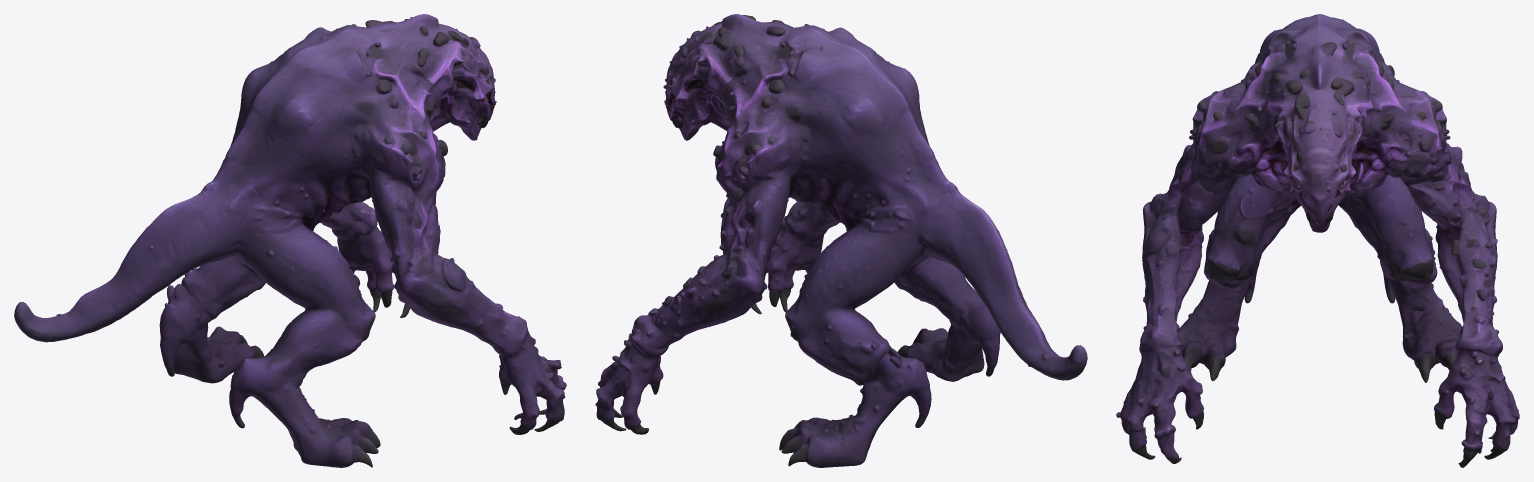
File: Tripo_H31_Original.glb
3 views of the same model, side by side, from view 1: azimuth 30°, elevation 25°; view 2: azimuth 150°, elevation 25°; view 3: azimuth 270°, elevation 25° (orthographic). The views are drawn at different scales.
Visible parts, largest first — view 1: tripo_node_351d1034-25ec-4300-a2e0-d03a0e68175a; view 2: tripo_node_351d1034-25ec-4300-a2e0-d03a0e68175a; view 3: tripo_node_351d1034-25ec-4300-a2e0-d03a0e68175a.
Part boxes in pixels (bbox=[...]): tripo_node_351d1034-25ec-4300-a2e0-d03a0e68175a: bbox=[14, 14, 566, 467]; tripo_node_351d1034-25ec-4300-a2e0-d03a0e68175a: bbox=[595, 14, 1087, 467]; tripo_node_351d1034-25ec-4300-a2e0-d03a0e68175a: bbox=[1116, 14, 1519, 467].
Size of the model in its own units: 1 by 0.7825 by 0.7566.
Materials: 1 (1 with a texture image).
